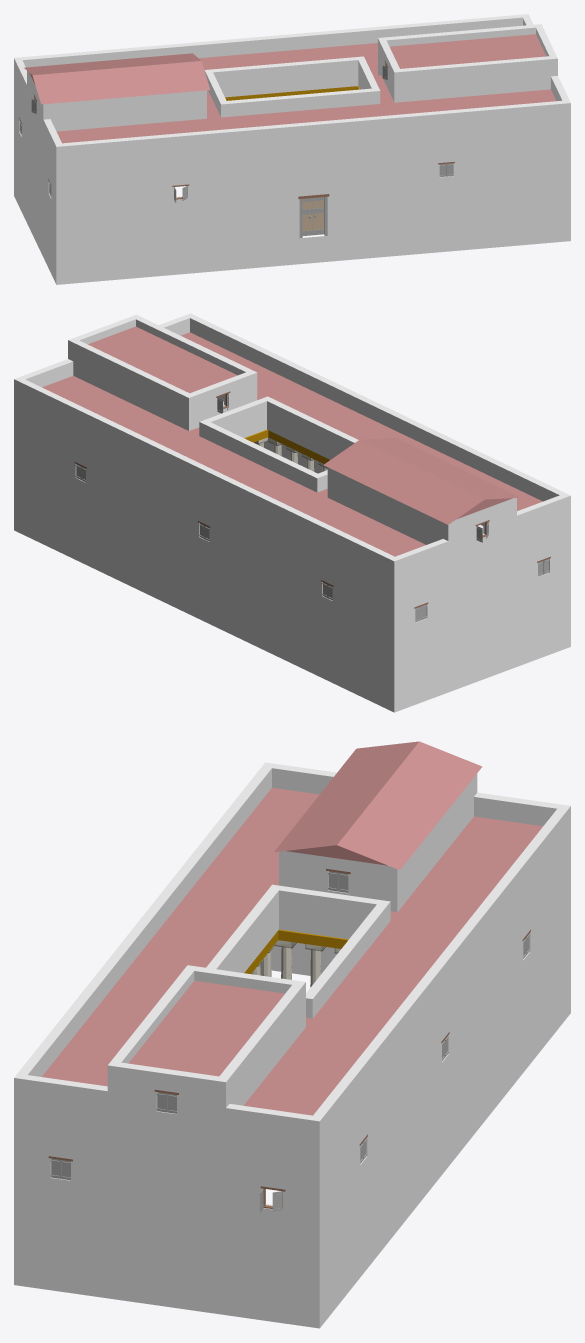
Rendered from LOD_Block_1_11.glb.
3 renders of one model, top to bottom at view 1: azimuth 30°, elevation 25°; view 2: azimuth 150°, elevation 25°; view 3: azimuth 270°, elevation 25°, orthographic. The views are drawn at different scales.
Parts seen in each view (by area): view 1: _1.1389; view 2: _1.1389; view 3: _1.1389.
Boxes of the visible parts, x1,y1,x2,y2 form: _1.1389: (14, 14, 570, 284); _1.1389: (14, 313, 570, 712); _1.1389: (14, 741, 570, 1328).
Bounding box in the file's own units: 39.39 × 12.7 × 25.83.
21 materials, 2 textured.
